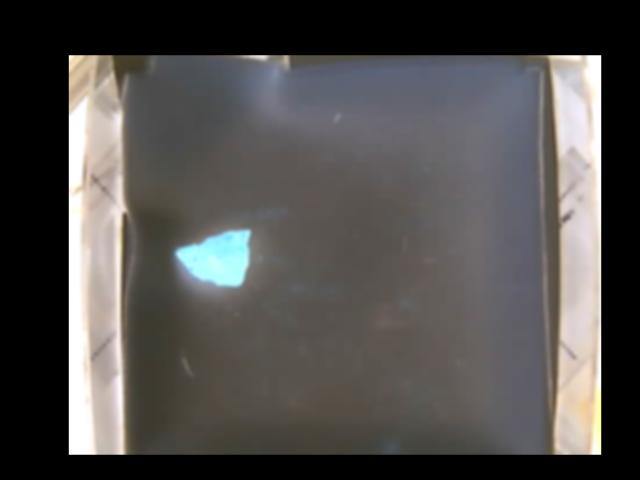Brisk: (171, 228, 251, 283)
